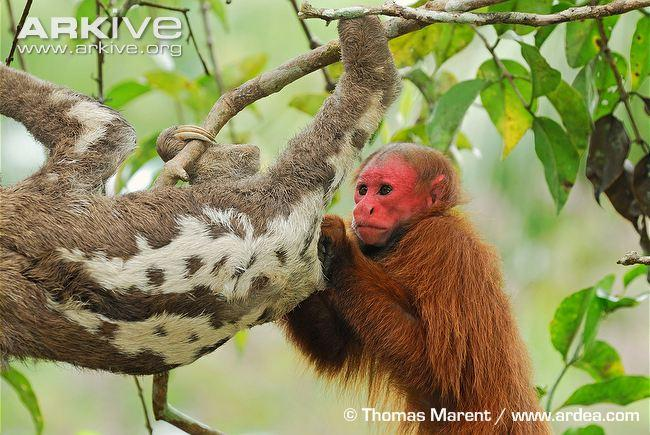monkey: (282, 144, 548, 435)
